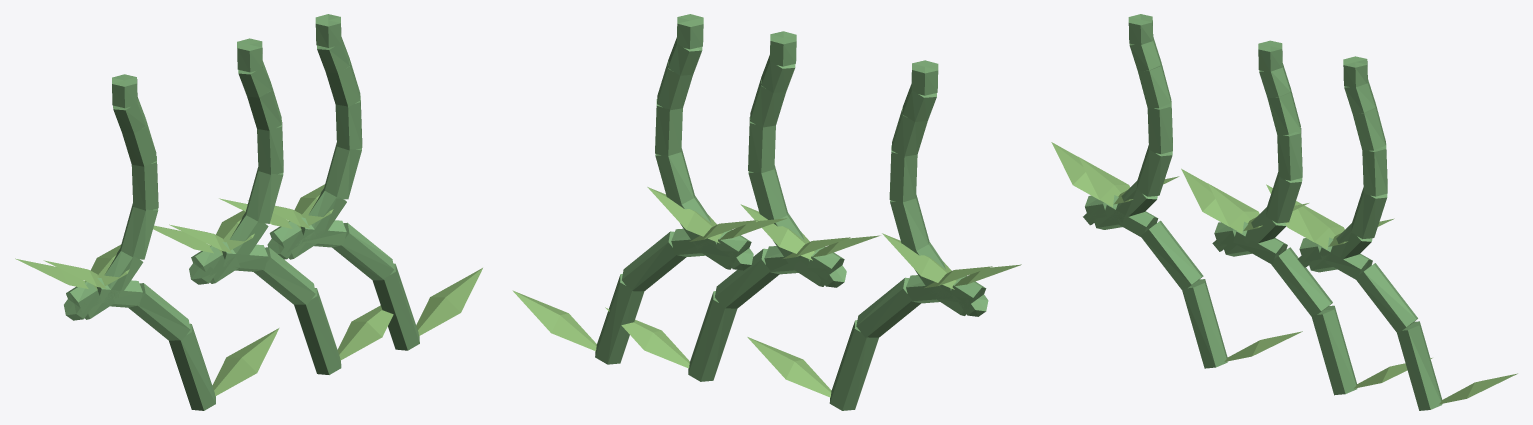
File: spiral_fern.glb
3 renders of one model, left to right at view 1: azimuth 30°, elevation 25°; view 2: azimuth 150°, elevation 25°; view 3: azimuth 330°, elevation 25°, orthographic. The views are drawn at different scales.
Visible parts, largest first — view 1: stem_0_0, stem_1_0, stem_2_0, stem_0_1, frond_0_0, frond_2_0, stem_1_1, stem_2_1, frond_1_0, stem_2_7, stem_1_7, stem_0_7 (+28 smaller); view 2: stem_1_0, stem_0_0, stem_2_0, stem_0_1, stem_2_1, stem_1_1, frond_2_0, frond_0_0, stem_0_7, stem_2_7, stem_1_7, frond_1_0 (+22 smaller); view 3: stem_0_0, stem_1_0, stem_2_0, stem_0_1, stem_2_1, stem_1_1, stem_1_7, stem_2_7, stem_0_7, stem_2_8, stem_1_8, stem_0_8 (+24 smaller).
Part boxes in pixels (<box>): stem_0_0: <box>169,323,215,410</box>; stem_1_0: <box>294,288,341,374</box>; stem_2_0: <box>372,263,419,350</box>; stem_0_1: <box>128,283,190,340</box>; frond_0_0: <box>212,328,279,396</box>; frond_2_0: <box>416,268,482,335</box>; stem_1_1: <box>254,247,315,304</box>; stem_2_1: <box>332,222,394,280</box>; frond_1_0: <box>337,305,393,360</box>; stem_2_7: <box>324,142,361,199</box>; stem_1_7: <box>245,167,283,223</box>; stem_0_7: <box>120,203,158,259</box>; stem_1_0: <box>688,291,737,381</box>; stem_0_0: <box>829,320,878,410</box>; stem_2_0: <box>595,273,644,364</box>; stem_0_1: <box>856,277,920,337</box>; stem_2_1: <box>622,231,686,291</box>; stem_1_1: <box>715,248,779,308</box>; frond_2_0: <box>512,290,596,351</box>; frond_0_0: <box>747,337,831,397</box>; stem_0_7: <box>890,195,929,252</box>; stem_2_7: <box>655,148,694,204</box>; stem_1_7: <box>748,165,787,223</box>; frond_1_0: <box>605,307,689,368</box>; stem_0_0: <box>1182,279,1227,368</box>; stem_1_0: <box>1311,305,1357,395</box>; stem_2_0: <box>1397,321,1442,410</box>; stem_0_1: <box>1141,220,1203,289</box>; stem_2_1: <box>1356,263,1417,333</box>; stem_1_1: <box>1271,247,1332,316</box>; stem_1_7: <box>1266,172,1302,223</box>; stem_2_7: <box>1351,187,1387,239</box>; stem_0_7: <box>1136,145,1172,196</box>; stem_2_8: <box>1362,143,1387,196</box>; stem_1_8: <box>1277,128,1302,180</box>; stem_0_8: <box>1147,101,1172,154</box>.
Size of the model in its own units: 1.03 by 0.709 by 0.1288.
